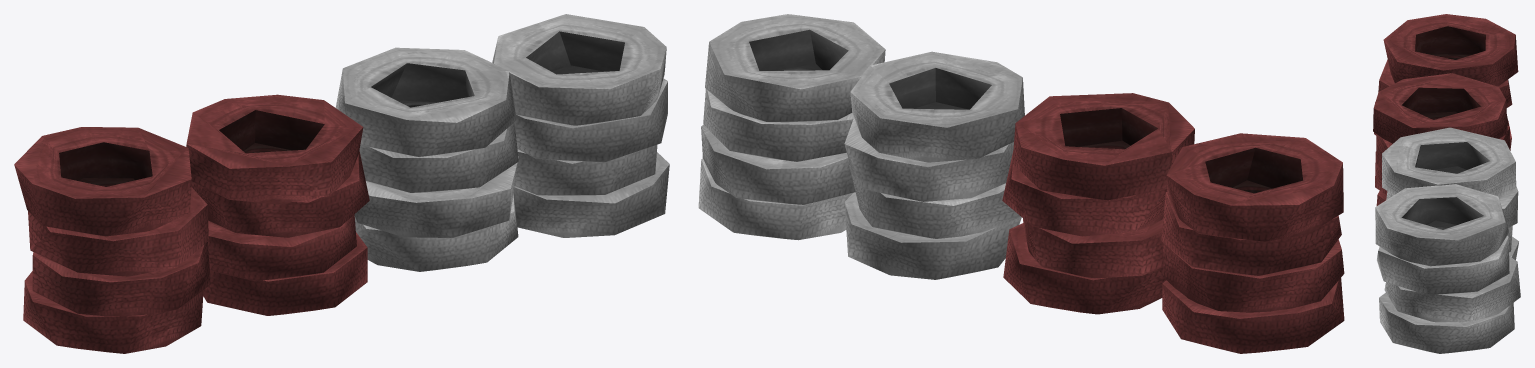
File: Tyrewall.fbx
3 views of the same model, side by side, from view 1: azimuth 30°, elevation 25°; view 2: azimuth 150°, elevation 25°; view 3: azimuth 270°, elevation 25° (orthographic). The views are drawn at different scales.
Parts seen in each view (by area): view 1: Tyrewall; view 2: Tyrewall; view 3: Tyrewall.
Part boxes in pixels (x1,y1,x2,y2): Tyrewall: [14, 14, 669, 353]; Tyrewall: [698, 14, 1344, 353]; Tyrewall: [1373, 14, 1520, 353].
Bounding box in the file's own units: 402 × 97.82 × 110.
Materials: 1 (1 with a texture image).
